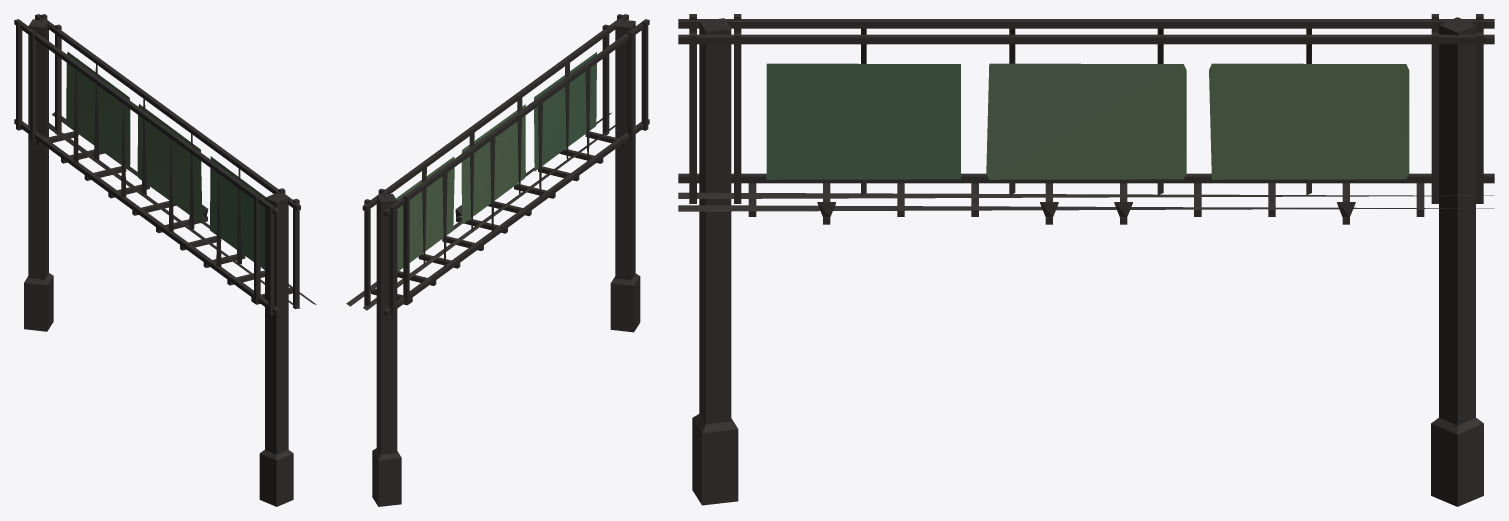
The model's file is sign-gantry.lod2.glb.
3 views of the same model, side by side, from view 1: azimuth 30°, elevation 25°; view 2: azimuth 150°, elevation 25°; view 3: azimuth 270°, elevation 25° (orthographic). The views are drawn at different scales.
Parts seen in each view (by area): view 1: SM_Bilboard_01.001_Material_0; view 2: SM_Bilboard_01.001_Material_0; view 3: SM_Bilboard_01.001_Material_0.
Boxes of the visible parts, x1,y1,x2,y2 form: SM_Bilboard_01.001_Material_0: (14, 14, 316, 506); SM_Bilboard_01.001_Material_0: (346, 14, 649, 506); SM_Bilboard_01.001_Material_0: (678, 14, 1494, 506).
Size of the model in its own units: 1.37 by 7.64 by 12.
